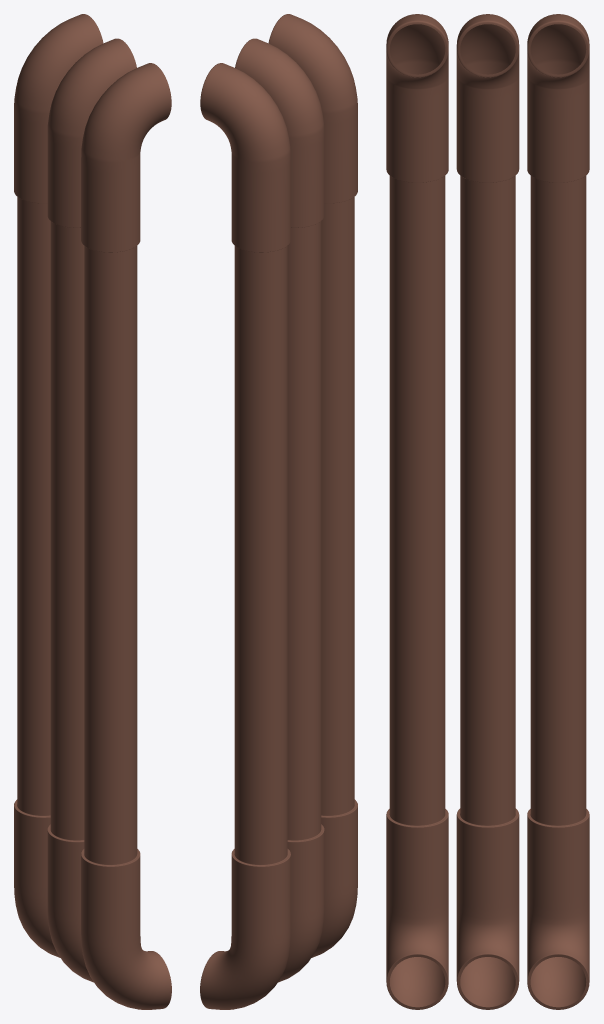
The model's file is Pipe03.fbx.
The picture shows the model from 3 angles, left to right: view 1: azimuth 30°, elevation 25°; view 2: azimuth 150°, elevation 25°; view 3: azimuth 270°, elevation 25°; orthographic projection. The views are drawn at different scales.
Parts seen in each view (by area): view 1: Pipe03_High; view 2: Pipe03_High; view 3: Pipe03_High.
Boxes of the visible parts, x1,y1,x2,y2 form: Pipe03_High: (14,14,171,1009); Pipe03_High: (200,14,357,1009); Pipe03_High: (386,14,589,1009).
Bounding box in the file's own units: 0.6251 × 7.75 × 1.44.
